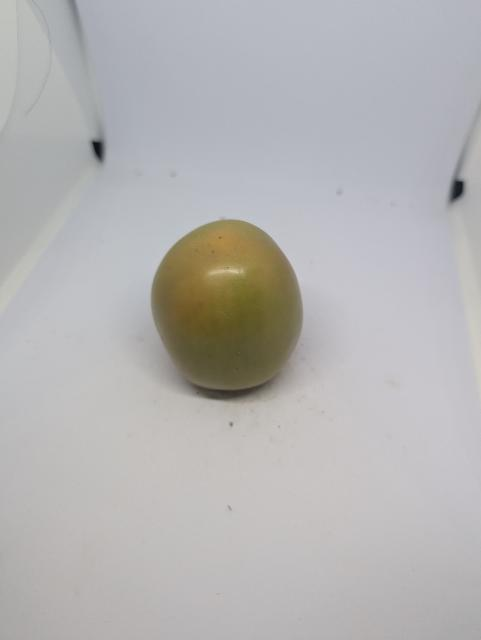breaker: (151, 215, 305, 399)
